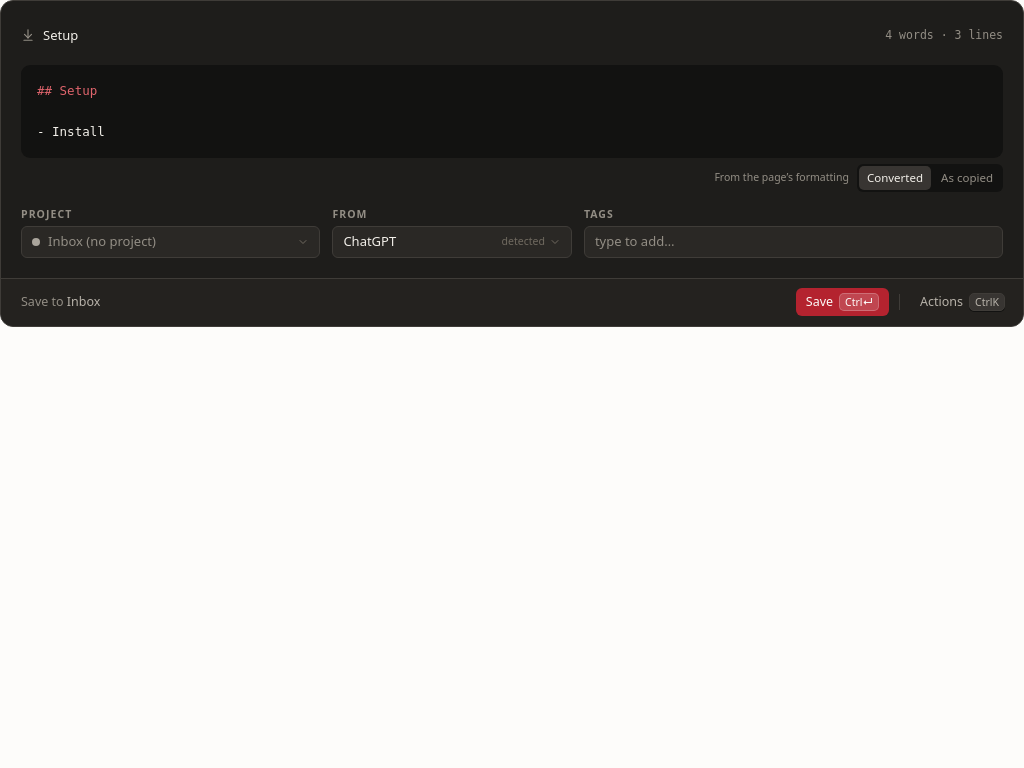
Test: capture sheet — title, formatting and tags › shows a copied page converted, and the text as copied a click away
Expected: the element named "Clipboard preview" shows "## Setup", [37,83,97,98]
Click the button "As copied" at (967, 178), box [933,166,1001,190]
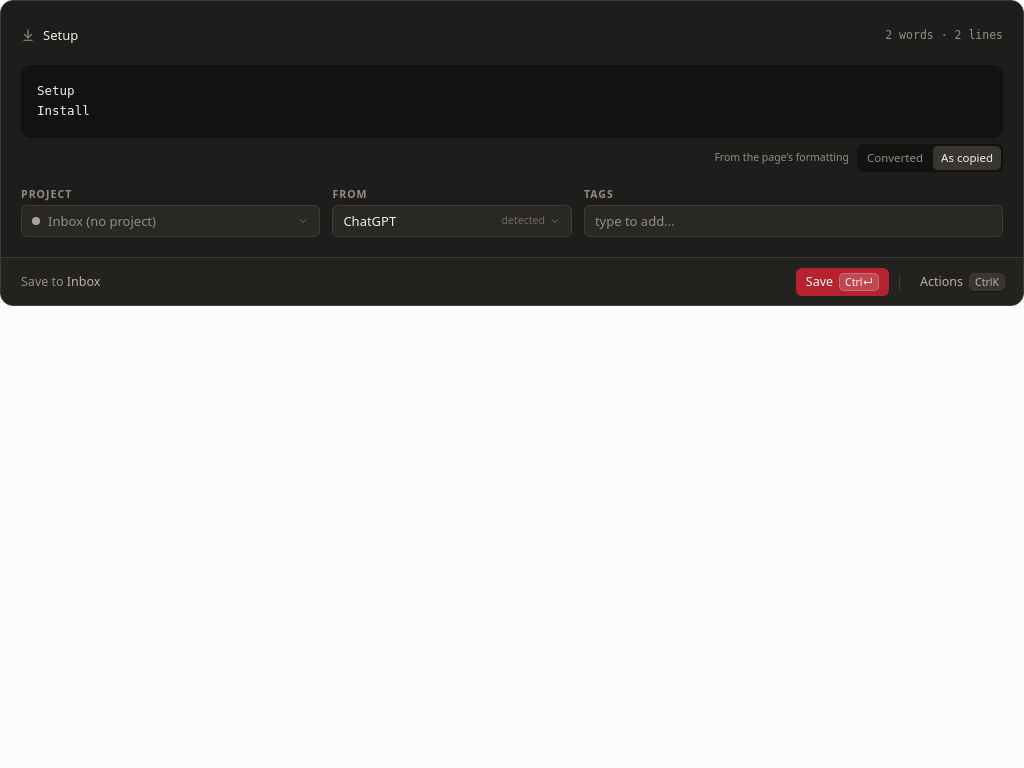
Expected: the button "As copied" is shown, [933,146,1001,170]
Expected: the text labelled "Clipboard preview" no longer shows "## Setup"
